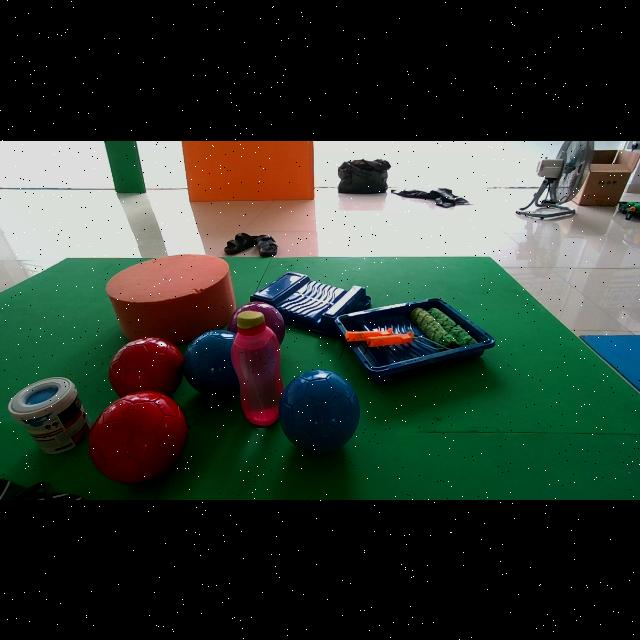B: (280, 370, 360, 453), (183, 329, 238, 396)
P: (228, 300, 286, 343)
R: (89, 392, 187, 483), (109, 337, 183, 396)
